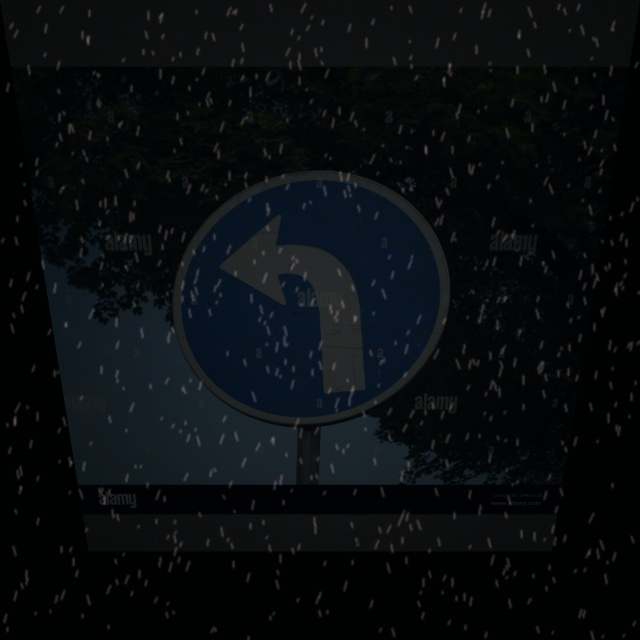Compulsory_Turn_Left_Ahead: (161, 170, 455, 429)
